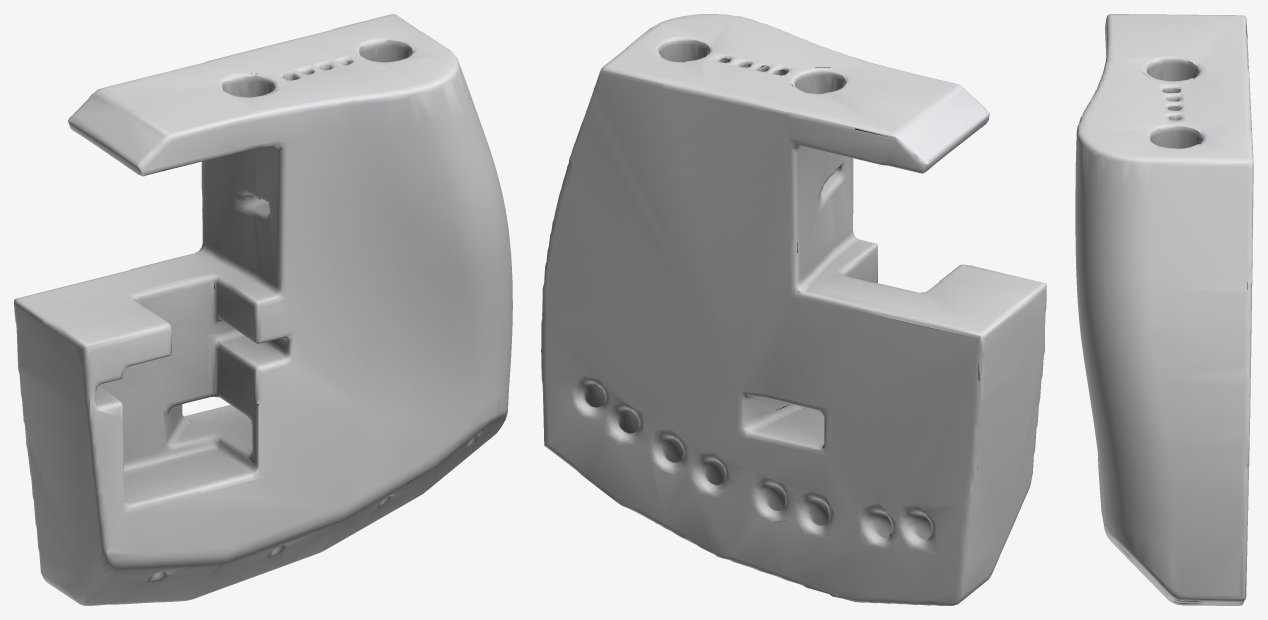
File: right_palm.glb
3 views of the same model, side by side, from view 1: azimuth 30°, elevation 25°; view 2: azimuth 150°, elevation 25°; view 3: azimuth 270°, elevation 25° (orthographic). The views are drawn at different scales.
Parts seen in each view (by area): view 1: right_palm; view 2: right_palm; view 3: right_palm.
Part boxes in pixels (x1,y1,x2,y2): right_palm: (14,14,512,605); right_palm: (541,14,1046,605); right_palm: (1075,14,1253,605).
Size of the model in its own units: 0.0685 by 0.0722 by 0.0233.
Materials: 1 (1 with a texture image).
